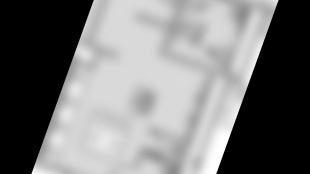door: (140, 130, 170, 158), (182, 0, 219, 21), (107, 159, 139, 174), (150, 0, 183, 5)
wall: (162, 72, 219, 174), (177, 76, 232, 174), (33, 55, 78, 170), (156, 48, 244, 86), (235, 6, 270, 85), (34, 157, 185, 174), (157, 0, 195, 59), (225, 4, 255, 76), (84, 0, 123, 46), (77, 39, 121, 61), (215, 0, 273, 16), (133, 10, 172, 32), (71, 57, 97, 71), (89, 50, 102, 70)
